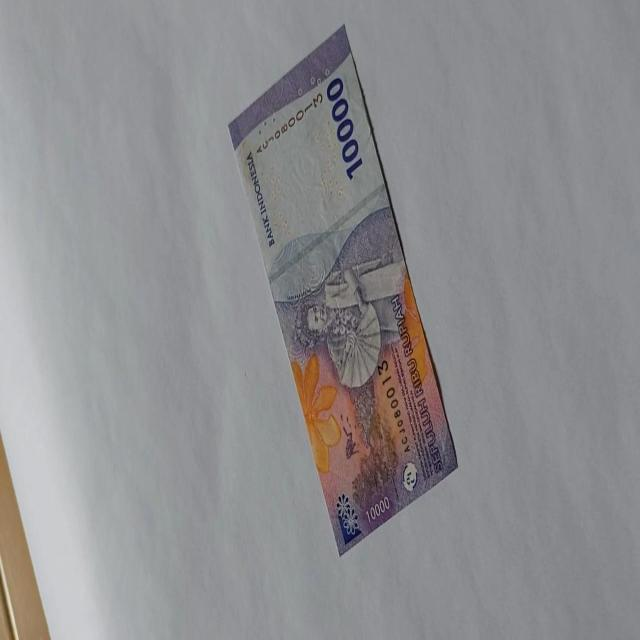Kertas: (227, 22, 459, 558)
